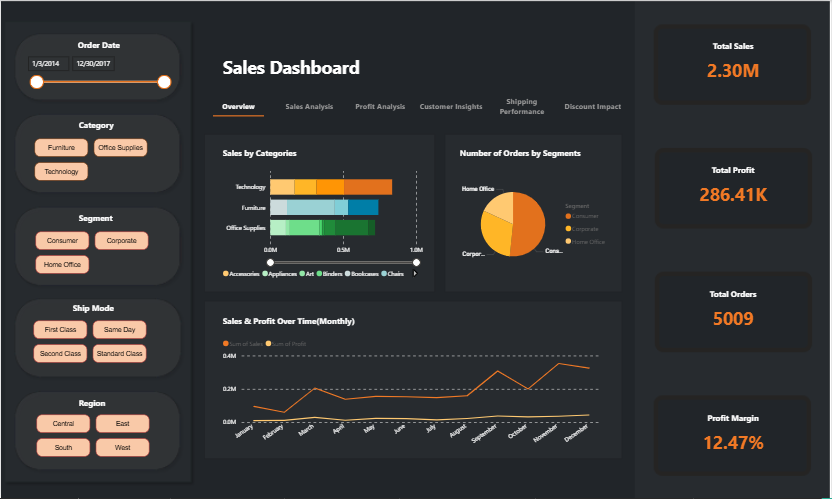

This screenshot's page, from the dashboard's own definition file:
{"tool":"powerbi","page":{"name":"Overview","canvas":[1500,900],"ordinal":0},"visuals":[{"type":"textbox","box":[396,94,272,68],"z":0},{"type":"slicer","fields":{"Values":["DimOrder.Order Date"]},"box":[35.6,91.6,280,78.9],"z":1000},{"type":"ChicletSlicer1448559807354","fields":{"Category":["DimCategory.Category"]},"box":[51.5,240.2,244,102],"z":2000},{"type":"textbox","box":[133.3,64.9,206.7,35.6],"z":3000},{"type":"textbox","box":[135.5,210.2,208,36],"z":4000},{"type":"ChicletSlicer1448559807354","fields":{"Category":["DimSegment.Segment"]},"box":[51.8,408.2,244.4,102.2],"z":5000},{"type":"textbox","box":[136.2,378.2,207.8,35.6],"z":6000},{"type":"ChicletSlicer1448559807354","fields":{"Category":["DimShipping.Ship Mode"]},"box":[49.1,569.8,244.4,102.2],"z":7000},{"type":"textbox","box":[124.2,539.6,208,36],"z":8000},{"type":"ChicletSlicer1448559807354","fields":{"Category":["DimRegion.Region"]},"box":[54,740,244,102],"z":9000},{"type":"textbox","box":[136,712,208,36],"z":10000},{"type":"card","title":"Total Sales","fields":{"Values":["Sum(FactSales.Sales)"]},"box":[1218,72,210,88],"z":11000},{"type":"card","title":"Total Profit","fields":{"Values":["Sum(FactSales.Profit)"]},"box":[1218,296,210,88],"z":12000},{"type":"card","title":"Total Orders","fields":{"Values":["Count(FactSales.Order ID)"]},"box":[1218,520,210,88],"z":13000},{"type":"card","title":"Profit Margin","fields":{"Values":["FactSales.Profit Margin %"]},"box":[1218,744,210,88],"z":14000},{"type":"lineChart","fields":{"Y":["Sum(FactSales.Sales)","Sum(FactSales.Profit)"],"Category":["DimOrder.Order Date.Variation.Date Hierarchy.Month"]},"box":[396,602,694,212],"z":15000},{"type":"textbox","box":[396,564,280,38],"z":16000},{"type":"barChart","fields":{"Y":["Sum(FactSales.Sales)"],"Category":["DimCategory.Category"],"Series":["DimSubCategory.Sub-Category"]},"box":[396,296,372,216],"z":17000},{"type":"textbox","box":[396,260,280,38],"z":18000},{"type":"pieChart","fields":{"Y":["Count(FactSales.Order ID)"],"Category":["DimSegment.Segment"]},"box":[826,298,280,214],"z":19000},{"type":"textbox","box":[824,260,280,38],"z":20000},{"type":"pageNavigator","box":[370,166,758,50],"z":21000},{"type":"shape","box":[384,194,92,32],"z":22000}]}

Visuals, with their boxes in screenshot pixels (x1, y1, x2, y2), scaled from the page's 1500x900 canvas onto the 832x499 screenshot:
textbox: [220,52,371,90]
slicer - DimOrder.Order Date: [20,51,175,95]
ChicletSlicer1448559807354 - DimCategory.Category: [29,133,164,190]
textbox: [74,36,189,56]
textbox: [75,117,191,137]
ChicletSlicer1448559807354 - DimSegment.Segment: [29,226,164,283]
textbox: [76,210,191,229]
ChicletSlicer1448559807354 - DimShipping.Ship Mode: [27,316,163,373]
textbox: [69,299,184,319]
ChicletSlicer1448559807354 - DimRegion.Region: [30,410,165,467]
textbox: [75,395,191,415]
"Total Sales" card: [676,40,792,89]
"Total Profit" card: [676,164,792,213]
"Total Orders" card: [676,288,792,337]
"Profit Margin" card: [676,413,792,461]
lineChart - Sum(FactSales.Sales) x Sum(FactSales.Profit): [220,334,605,451]
textbox: [220,313,375,334]
barChart - Sum(FactSales.Sales) x DimCategory.Category: [220,164,426,284]
textbox: [220,144,375,165]
pieChart - Count(FactSales.Order ID) x DimSegment.Segment: [458,165,613,284]
textbox: [457,144,612,165]
pageNavigator: [205,92,626,120]
shape: [213,108,264,125]
